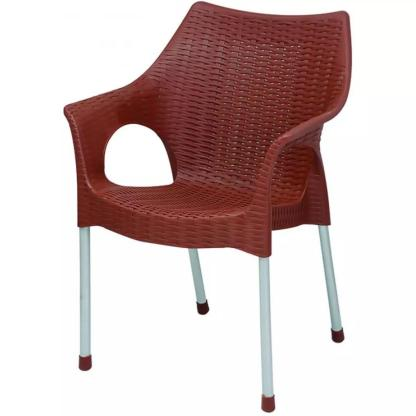chair: (60, 0, 367, 416)
